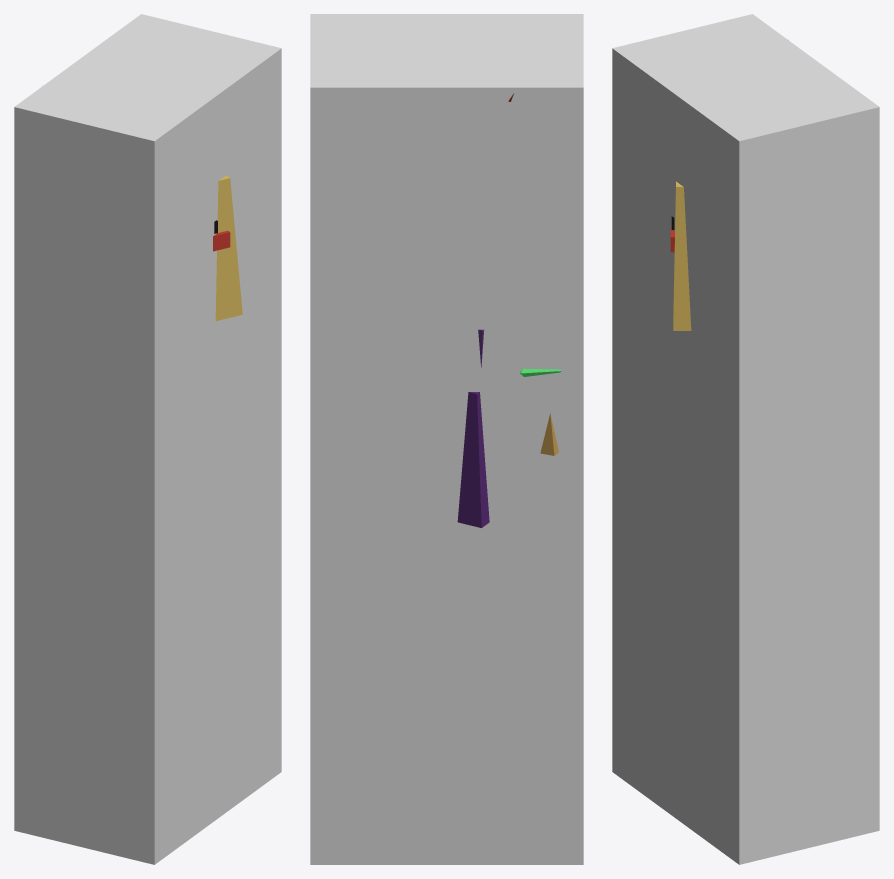
The model's file is jungle_shaman.fbx.
3 renders of one model, left to right at view 1: azimuth 30°, elevation 25°; view 2: azimuth 150°, elevation 25°; view 3: azimuth 270°, elevation 25°, orthographic. The views are drawn at different scales.
Parts seen in each view (by area): view 1: Root__0.06_1.93_-0.05__1.91_6.00_1.22, Head__Torso__0.00_3.09_0.00; view 2: Root__0.06_1.93_-0.05__1.91_6.00_1.22, Torso__Root__0.00_1.84_0.00, ArmR__Torso__0.67_2.92_0.00; view 3: Root__0.06_1.93_-0.05__1.91_6.00_1.22, Head__Torso__0.00_3.09_0.00.
Part boxes in pixels (box(x1,y1,x2,y2)): Root__0.06_1.93_-0.05__1.91_6.00_1.22: box(14, 14, 281, 864); Head__Torso__0.00_3.09_0.00: box(213, 175, 242, 321); Root__0.06_1.93_-0.05__1.91_6.00_1.22: box(310, 14, 583, 864); Torso__Root__0.00_1.84_0.00: box(457, 329, 489, 527); ArmR__Torso__0.67_2.92_0.00: box(520, 368, 561, 455); Root__0.06_1.93_-0.05__1.91_6.00_1.22: box(612, 14, 879, 864); Head__Torso__0.00_3.09_0.00: box(670, 181, 691, 330).
Size of the model in its own units: 63.38 by 168 by 56.28.
Materials: 1 (1 with a texture image).
